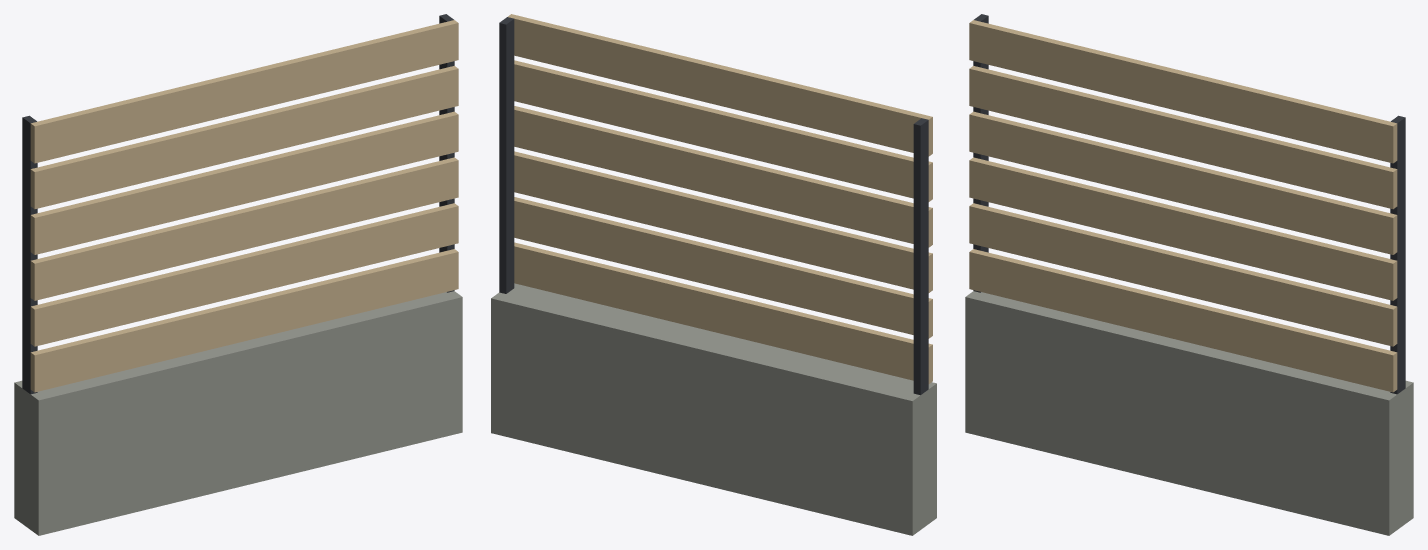
The model's file is fence-w1.fbx.
The picture shows the model from 3 angles, left to right: view 1: azimuth 30°, elevation 25°; view 2: azimuth 150°, elevation 25°; view 3: azimuth 330°, elevation 25°; orthographic projection.
Visible parts, largest first — view 1: a2000/800/fence-w1; view 2: a2000/800/fence-w1; view 3: a2000/800/fence-w1.
Boxes of the visible parts, x1,y1,x2,y2 form: a2000/800/fence-w1: (14, 14, 462, 535); a2000/800/fence-w1: (491, 14, 936, 535); a2000/800/fence-w1: (965, 14, 1413, 535).
Size of the model in its own units: 1.8 by 1.65 by 0.18.
